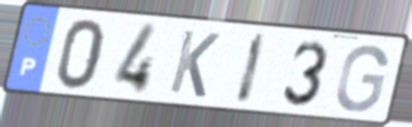0: (53, 17, 109, 92)
3: (281, 38, 331, 108)
4: (109, 21, 160, 99)
G: (333, 42, 391, 114)
I: (232, 30, 270, 108)
K: (166, 27, 223, 101)
